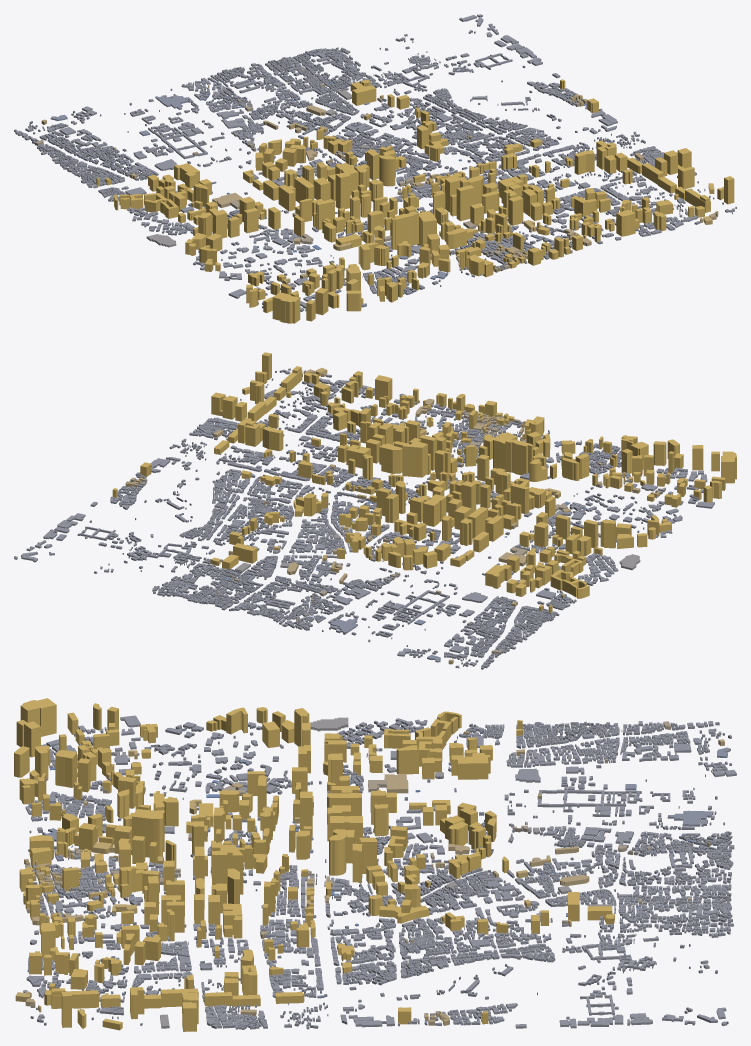
Rendered from buildings.glb.
The picture shows the model from 3 angles, top to bottom: view 1: azimuth 30°, elevation 25°; view 2: azimuth 150°, elevation 25°; view 3: azimuth 270°, elevation 25°; orthographic projection. The views are drawn at different scales.
Visible parts, largest first — view 1: buildings; view 2: buildings; view 3: buildings.
Boxes of the visible parts, x1,y1,x2,y2 form: buildings: (14, 14, 736, 323); buildings: (14, 352, 736, 669); buildings: (14, 698, 736, 1031).
Bounding box in the file's own units: 2491 × 175 × 2468.
